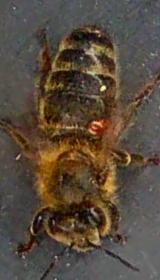varroa_mite: (85, 112, 109, 146)
